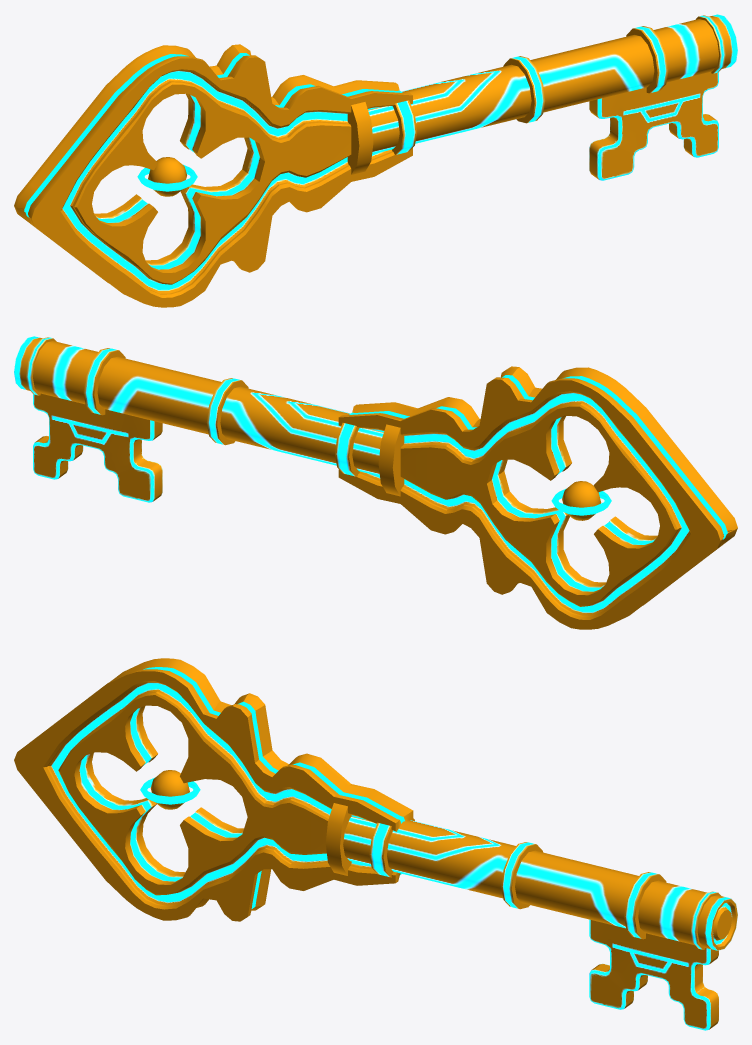
Rendered from key.fbx.
The picture shows the model from 3 angles, top to bottom: view 1: azimuth 30°, elevation 25°; view 2: azimuth 150°, elevation 25°; view 3: azimuth 330°, elevation 25°; orthographic projection.
Visible parts, largest first — view 1: Cylinder, Circle; view 2: Cylinder, Circle; view 3: Cylinder, Circle.
Part boxes in pixels (x1,y1,x2,y2): Cylinder: (14, 14, 737, 307); Circle: (137, 164, 197, 191); Cylinder: (14, 336, 737, 629); Circle: (551, 488, 611, 515); Cylinder: (14, 658, 737, 1030); Circle: (140, 777, 200, 804).
Bounding box in the file's own units: 848 × 286 × 70.14.
